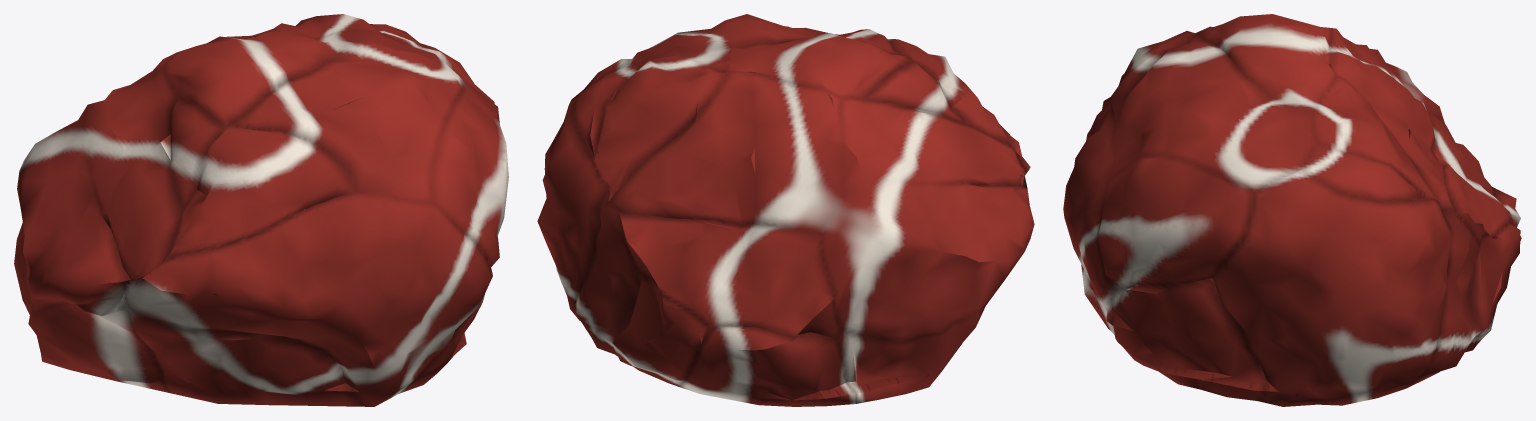
File: jaspe_rojo.fbx
3 views of the same model, side by side, from view 1: azimuth 30°, elevation 25°; view 2: azimuth 150°, elevation 25°; view 3: azimuth 270°, elevation 25° (orthographic). The views are drawn at different scales.
Visible parts, largest first — view 1: jaspe_rojo; view 2: jaspe_rojo; view 3: jaspe_rojo.
Boxes of the visible parts, x1,y1,x2,y2 form: jaspe_rojo: [14, 14, 508, 406]; jaspe_rojo: [537, 14, 1034, 406]; jaspe_rojo: [1063, 14, 1521, 406].
Bounding box in the file's own units: 2.31 × 1.47 × 2.11.
Materials: 1 (1 with a texture image).
